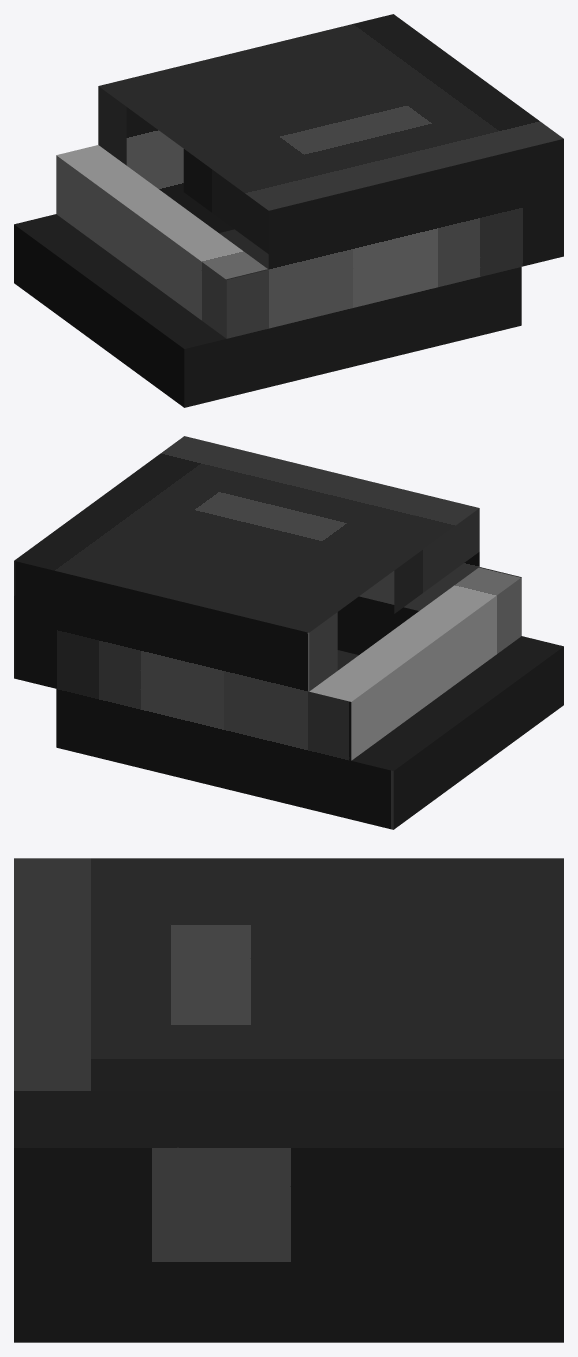
Rendered from book_0x282_04.obj.
The picture shows the model from 3 angles, top to bottom: view 1: azimuth 30°, elevation 25°; view 2: azimuth 150°, elevation 25°; view 3: azimuth 270°, elevation 25°; orthographic projection. The views are drawn at different scales.
Parts seen in each view (by area): view 1: Cube; view 2: Cube; view 3: Cube.
Part boxes in pixels (box(x1,y1,x2,y2)): Cube: box(14, 14, 563, 407); Cube: box(14, 436, 563, 829); Cube: box(14, 858, 563, 1342).
Size of the model in its own units: 0.5625 by 0.25 by 0.4375.
